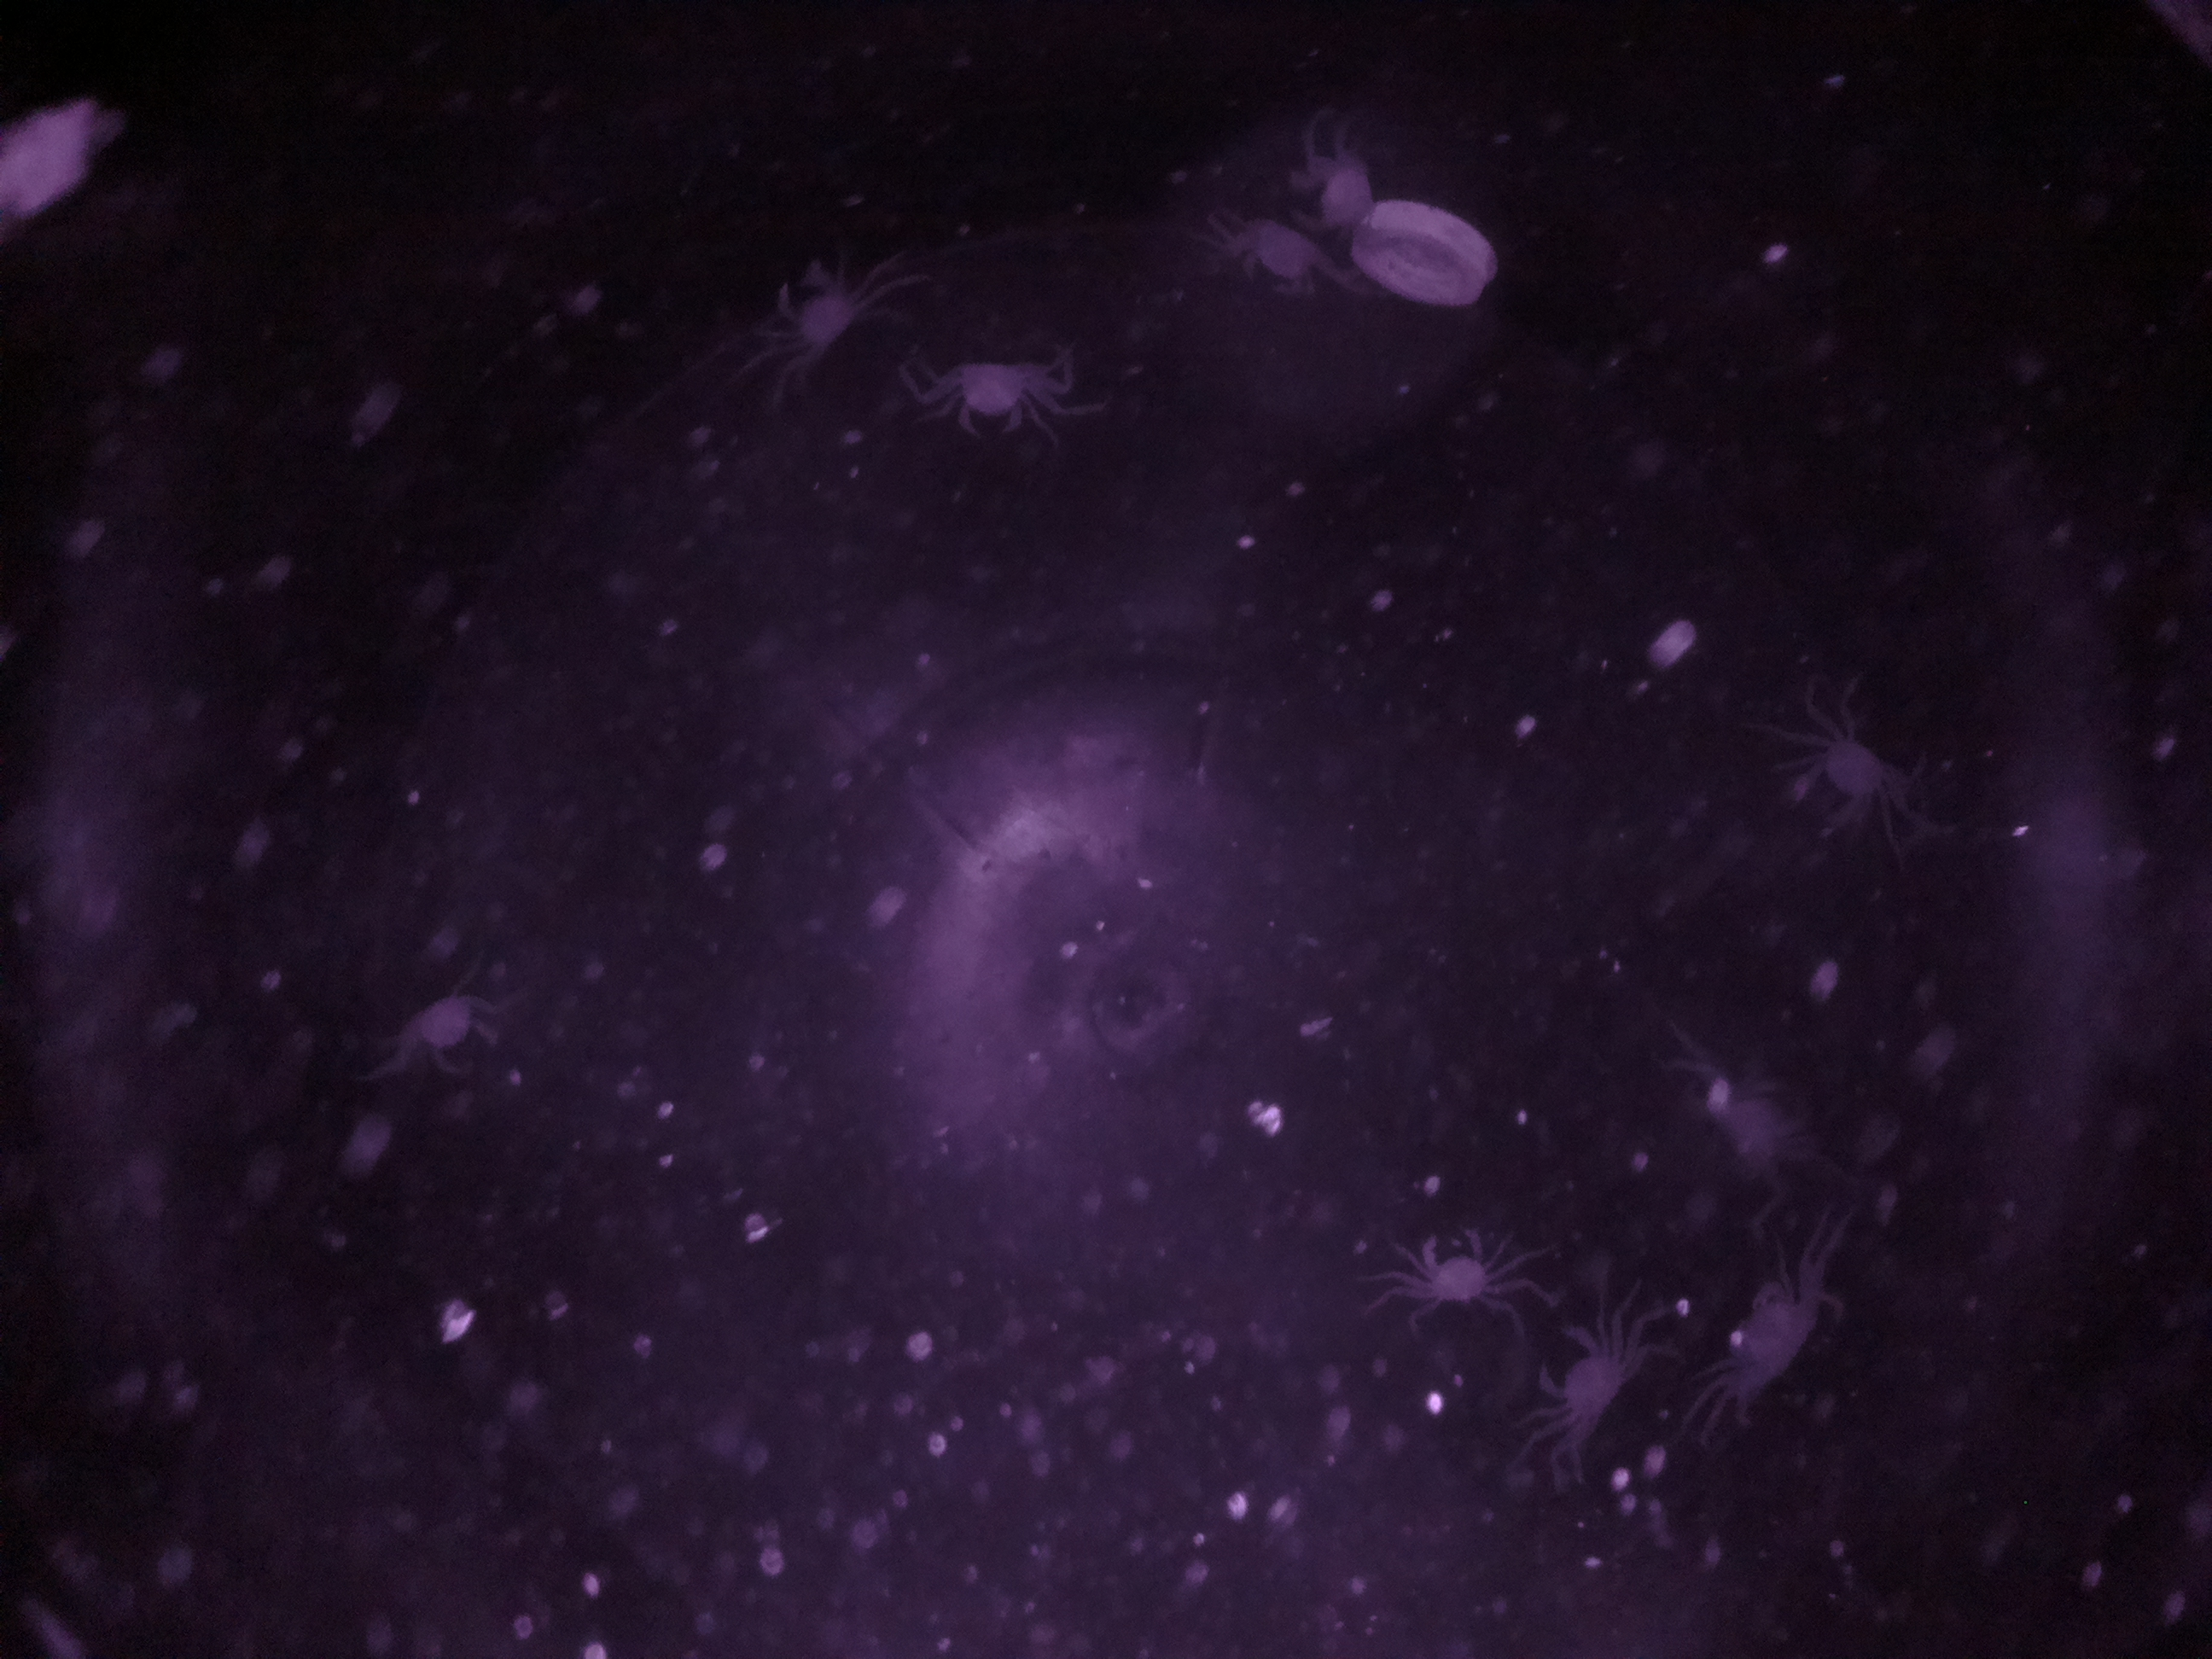Crab: (1689, 1255, 1853, 1410), (1766, 711, 1926, 852), (1521, 1312, 1651, 1450), (756, 244, 888, 362), (1402, 1206, 1512, 1330), (1223, 204, 1341, 310), (944, 336, 1045, 448)
